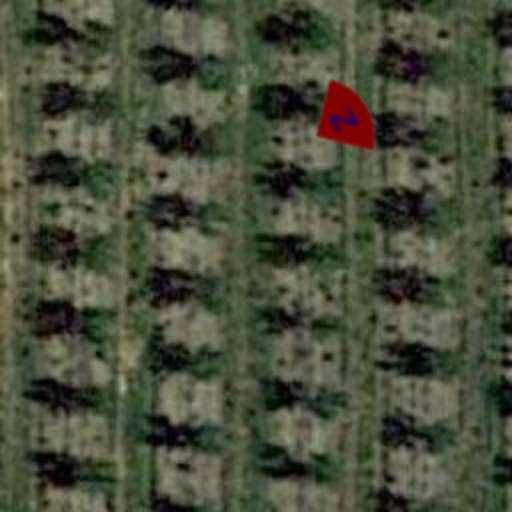quarter_circle: (290, 62, 402, 174)
